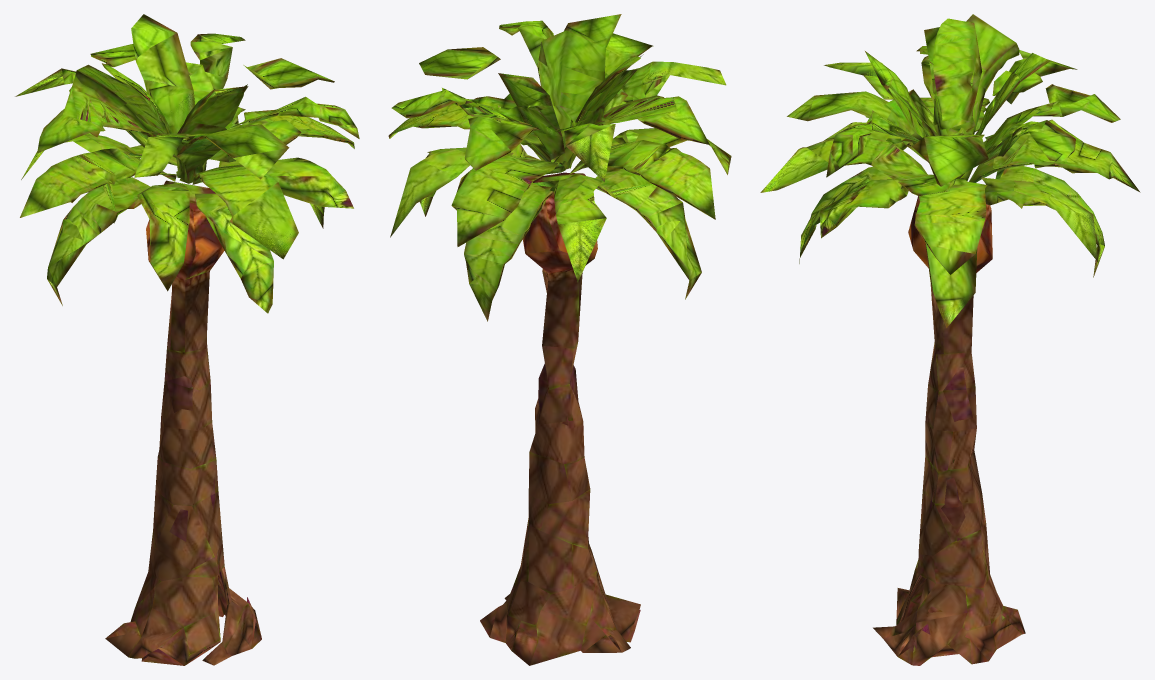
Rendered from palm.glb.
The picture shows the model from 3 angles, left to right: view 1: azimuth 30°, elevation 25°; view 2: azimuth 150°, elevation 25°; view 3: azimuth 270°, elevation 25°; orthographic projection. The views are drawn at different scales.
Bounding box in the file's own units: 1.11 × 1.9 × 1.13.
1 material, 1 textured.
